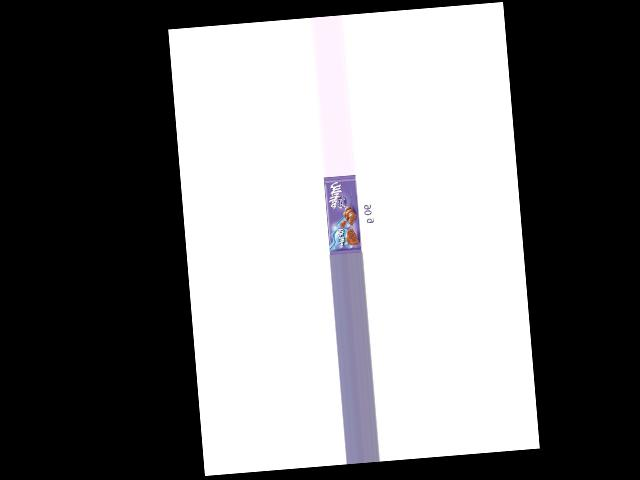chocolate: (323, 176, 361, 255)
